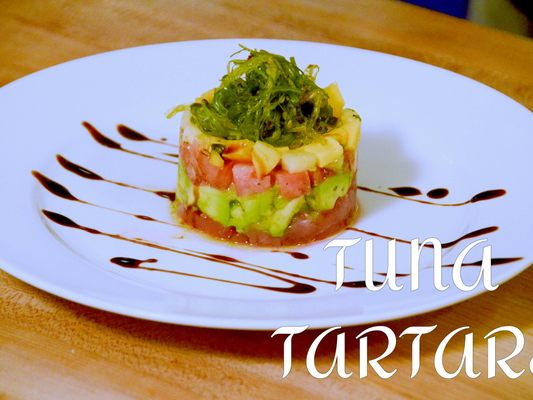soup: (167, 48, 363, 250)
